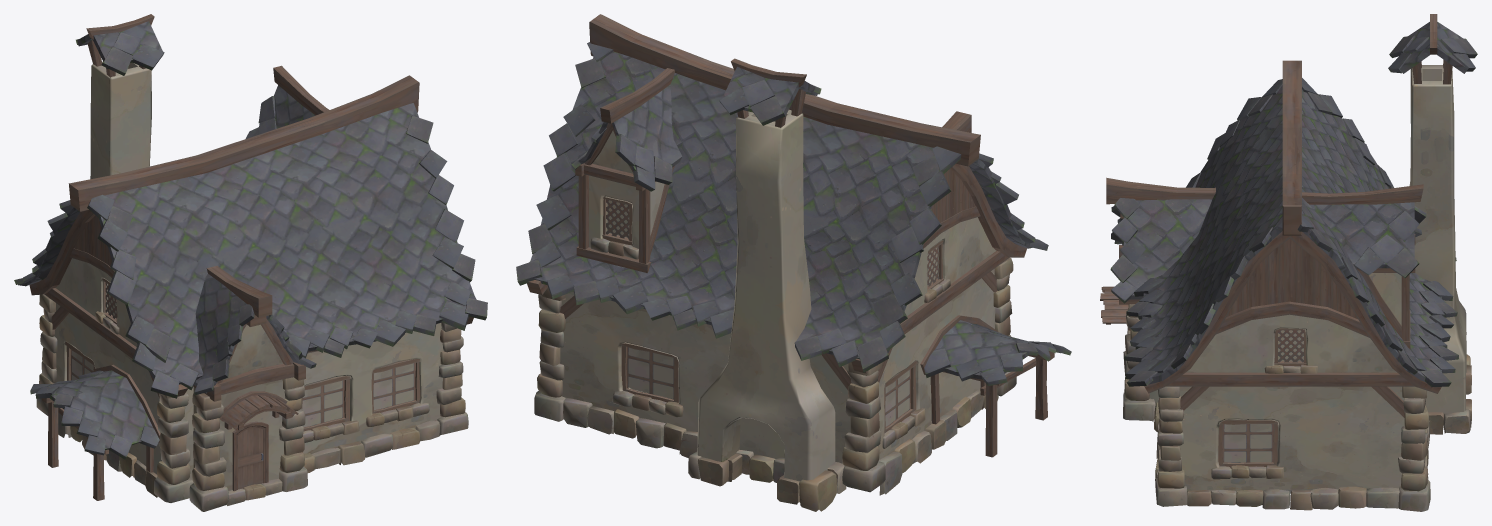
Rendered from Homeworld_Exterior_Md_Build_House_06_Lod0.fbx.
3 renders of one model, left to right at view 1: azimuth 30°, elevation 25°; view 2: azimuth 150°, elevation 25°; view 3: azimuth 270°, elevation 25°, orthographic. The views are drawn at different scales.
Parts seen in each view (by area): view 1: Area_MdBuild_House13_Lod0; view 2: Area_MdBuild_House13_Lod0; view 3: Area_MdBuild_House13_Lod0.
Boxes of the visible parts, bbox=[...] form: Area_MdBuild_House13_Lod0: bbox=[14, 14, 487, 511]; Area_MdBuild_House13_Lod0: bbox=[516, 14, 1071, 511]; Area_MdBuild_House13_Lod0: bbox=[1100, 14, 1477, 511].
Size of what is drawn, in the model's own units: 13.94 by 12.81 by 11.43.
